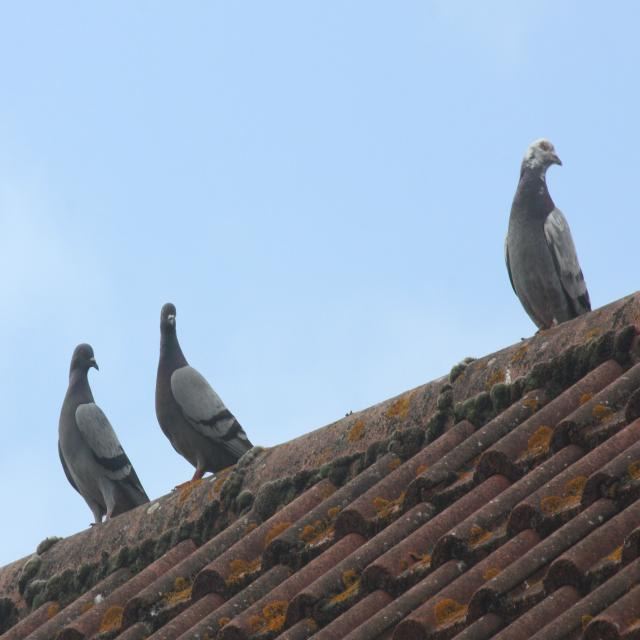bird: (492, 132, 592, 350), (154, 292, 249, 490), (54, 336, 138, 552)
